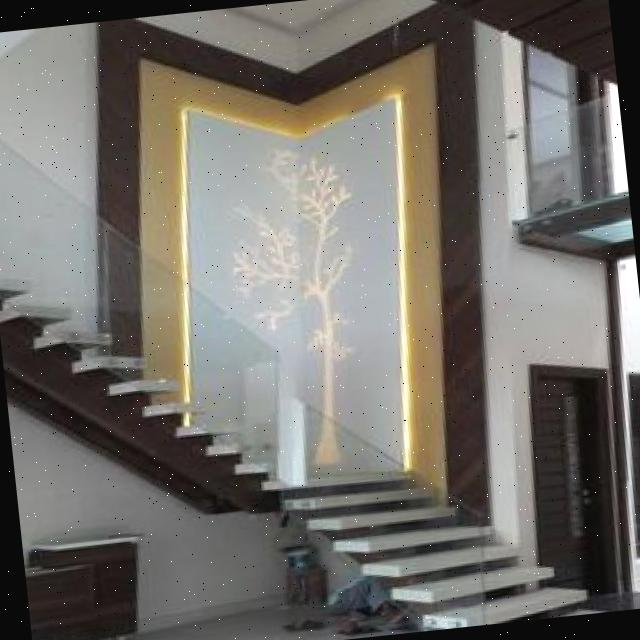stairs: (0, 207, 640, 640)
